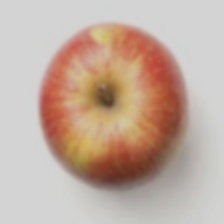apple: (13, 42, 184, 209)
